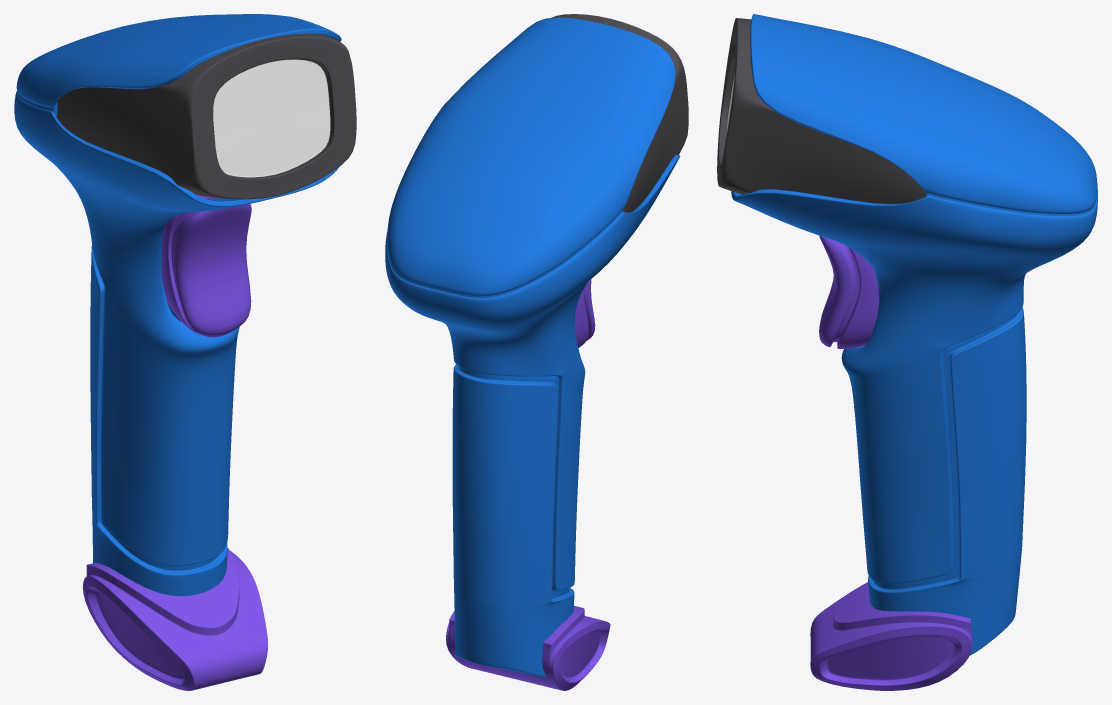
Rendered from scanner.glb.
3 views of the same model, side by side, from view 1: azimuth 30°, elevation 25°; view 2: azimuth 150°, elevation 25°; view 3: azimuth 270°, elevation 25° (orthographic). The views are drawn at different scales.
Visible parts, largest first — view 1: scanner, monitor, stand, button; view 2: scanner, stand, monitor, button; view 3: scanner, monitor, stand, button.
Part boxes in pixels (<box>): scanner: <box>14,14,341,596</box>; monitor: <box>56,33,356,199</box>; stand: <box>82,548,268,690</box>; button: <box>161,195,251,337</box>; scanner: <box>385,17,680,677</box>; stand: <box>446,606,610,690</box>; monitor: <box>551,14,688,212</box>; button: <box>575,279,595,347</box>; scanner: <box>731,14,1097,655</box>; monitor: <box>717,18,925,203</box>; stand: <box>810,582,972,690</box>; button: <box>819,235,878,348</box>.
Bounding box in the file's own units: 10.17 × 28.25 × 15.31.
